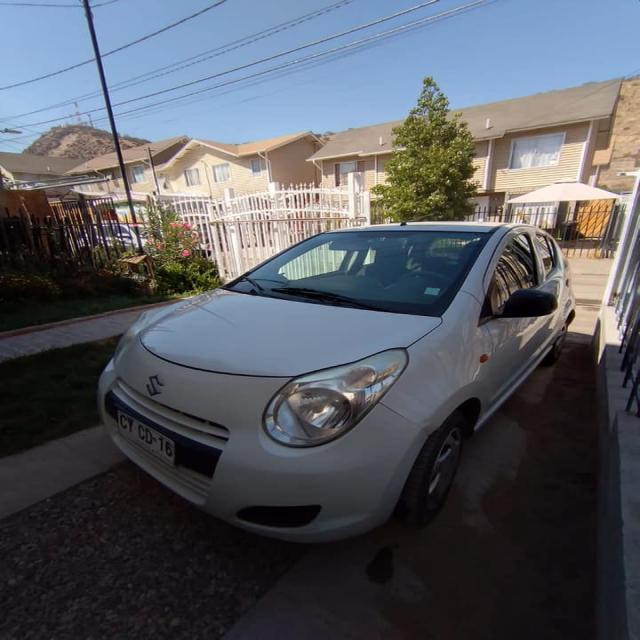patente: (112, 408, 176, 467)
